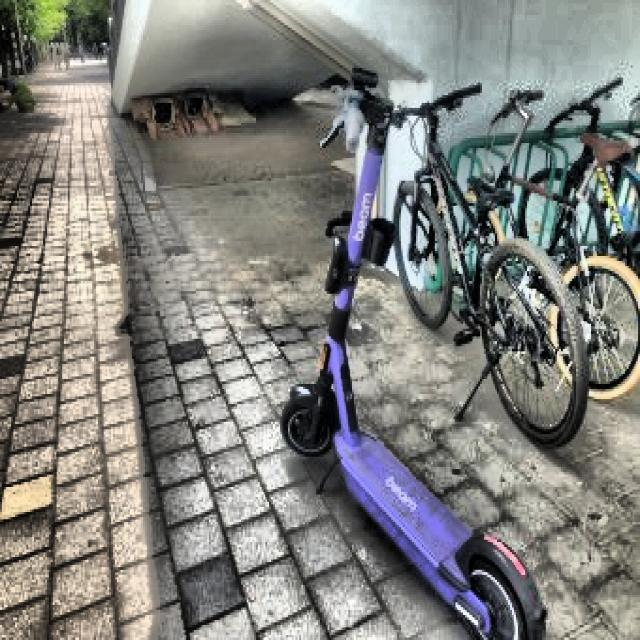bike: (280, 66, 579, 640), (389, 81, 591, 450)
